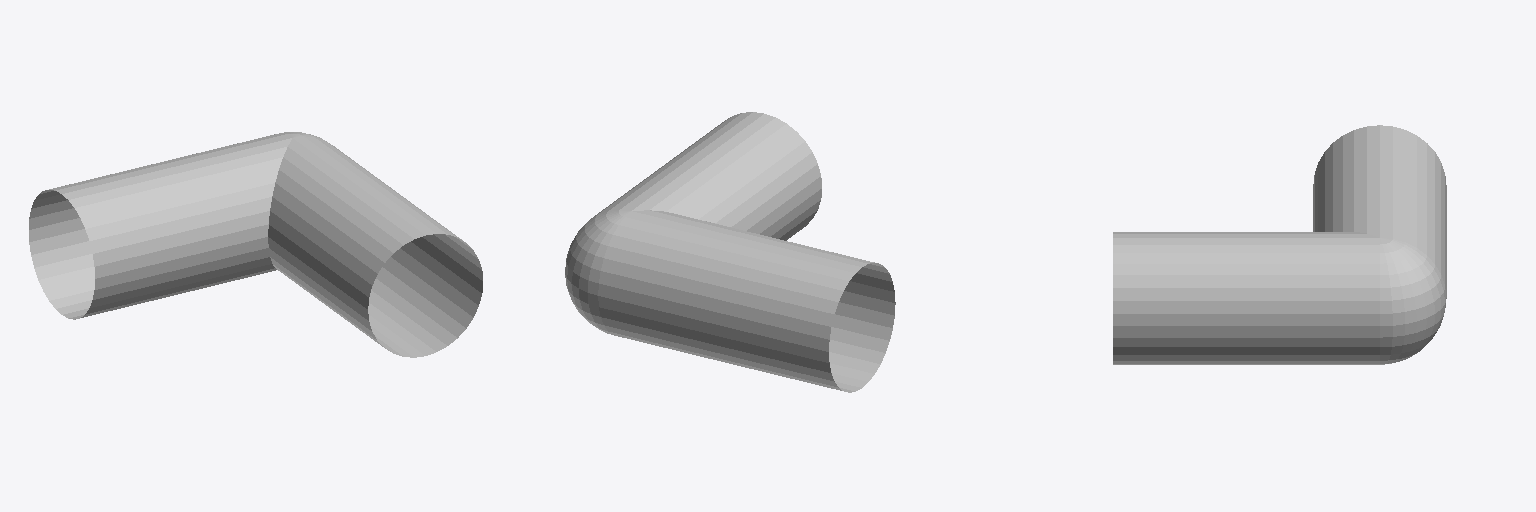
File: snake_corner.obj
3 renders of one model, left to right at view 1: azimuth 30°, elevation 25°; view 2: azimuth 150°, elevation 25°; view 3: azimuth 270°, elevation 25°, orthographic.
Visible parts, largest first — view 1: snake_corner_snake_corner_Cylinder.002; view 2: snake_corner_snake_corner_Cylinder.002; view 3: snake_corner_snake_corner_Cylinder.002.
Part boxes in pixels (bbox=[...]): snake_corner_snake_corner_Cylinder.002: bbox=[29, 132, 482, 357]; snake_corner_snake_corner_Cylinder.002: bbox=[565, 112, 895, 392]; snake_corner_snake_corner_Cylinder.002: bbox=[1113, 125, 1446, 364].
Size of the model in its own units: 1.25 by 0.5 by 1.25.